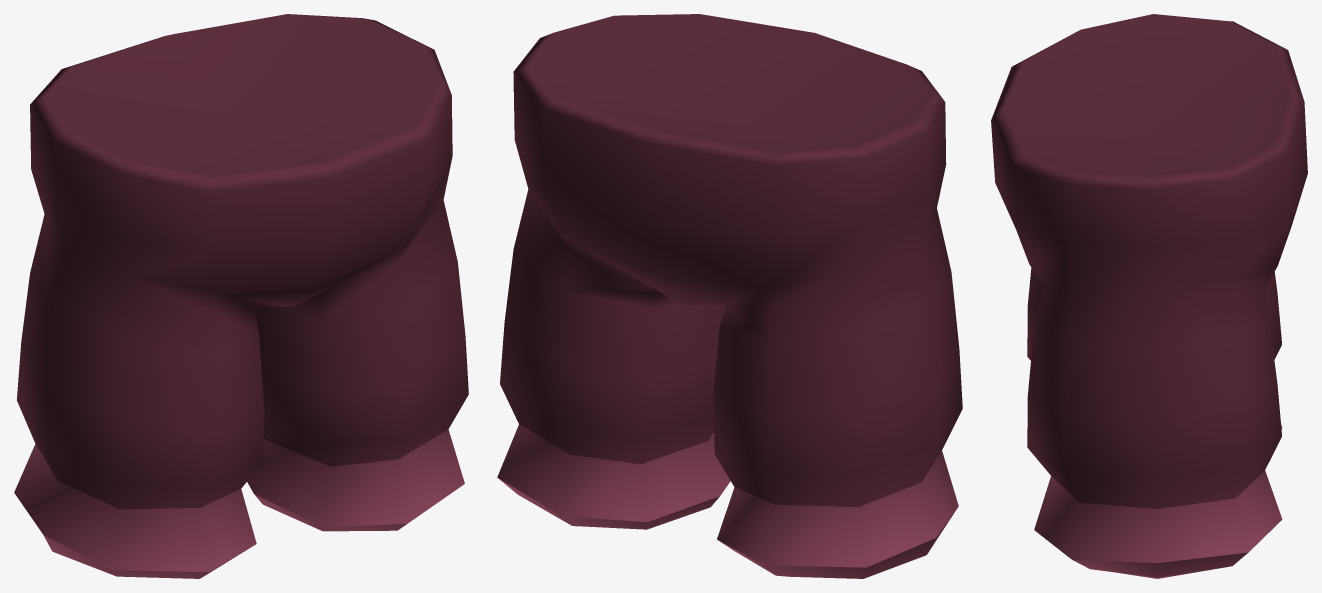
The model's file is Legs_22.fbx.
3 views of the same model, side by side, from view 1: azimuth 30°, elevation 25°; view 2: azimuth 150°, elevation 25°; view 3: azimuth 270°, elevation 25° (orthographic). The views are drawn at different scales.
Visible parts, largest first — view 1: Legs_22; view 2: Legs_22; view 3: Legs_22.
Part boxes in pixels (left/top/right/bottom): Legs_22: left=14, top=14, right=468, bottom=578; Legs_22: left=497, top=14, right=962, bottom=578; Legs_22: left=991, top=14, right=1307, bottom=578.
Bounding box in the file's own units: 40.89 × 42.48 × 29.68.
